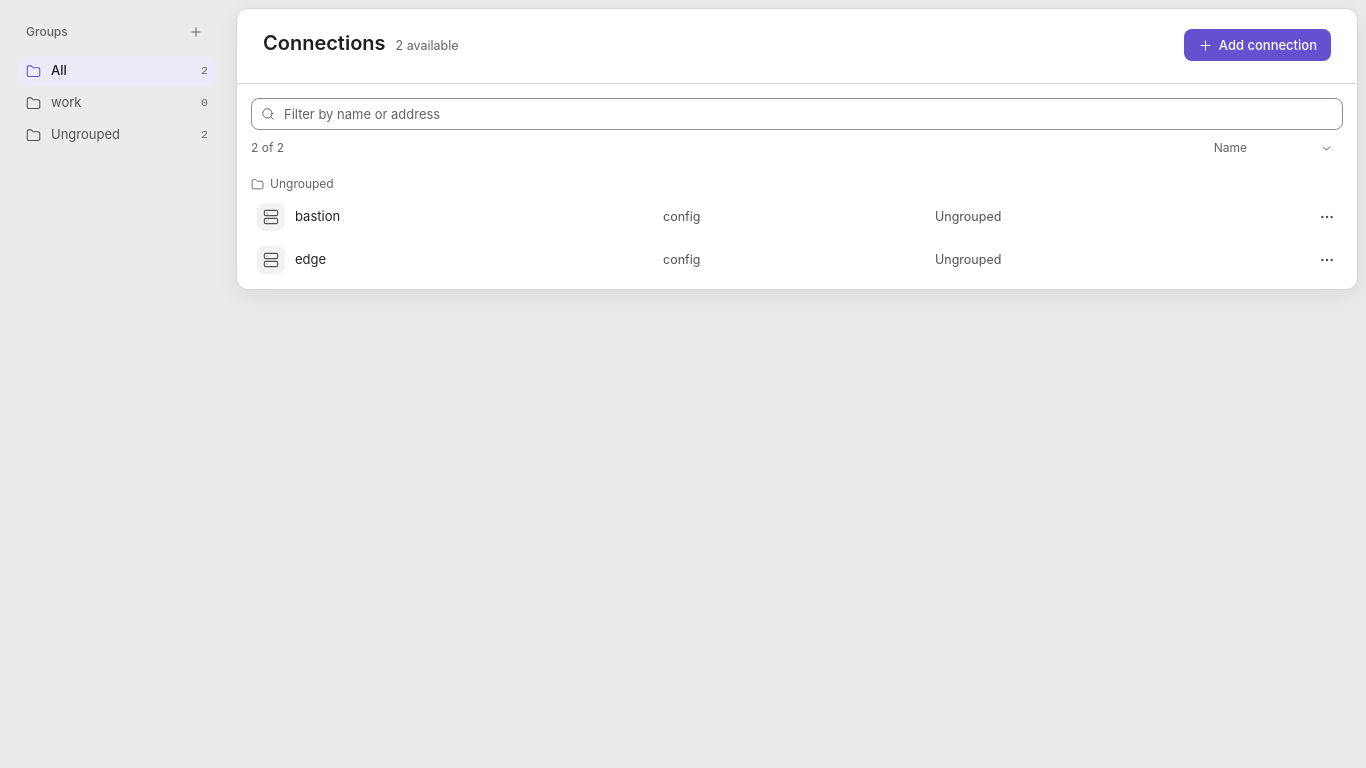
ConnectionsPage › acting on several chosen connections › lets the choice go once the move is saved
This screenshot has width=1366, height=768.
Click the button "bastion config Ungrouped" at (318, 216), box [243,196,1351,238]
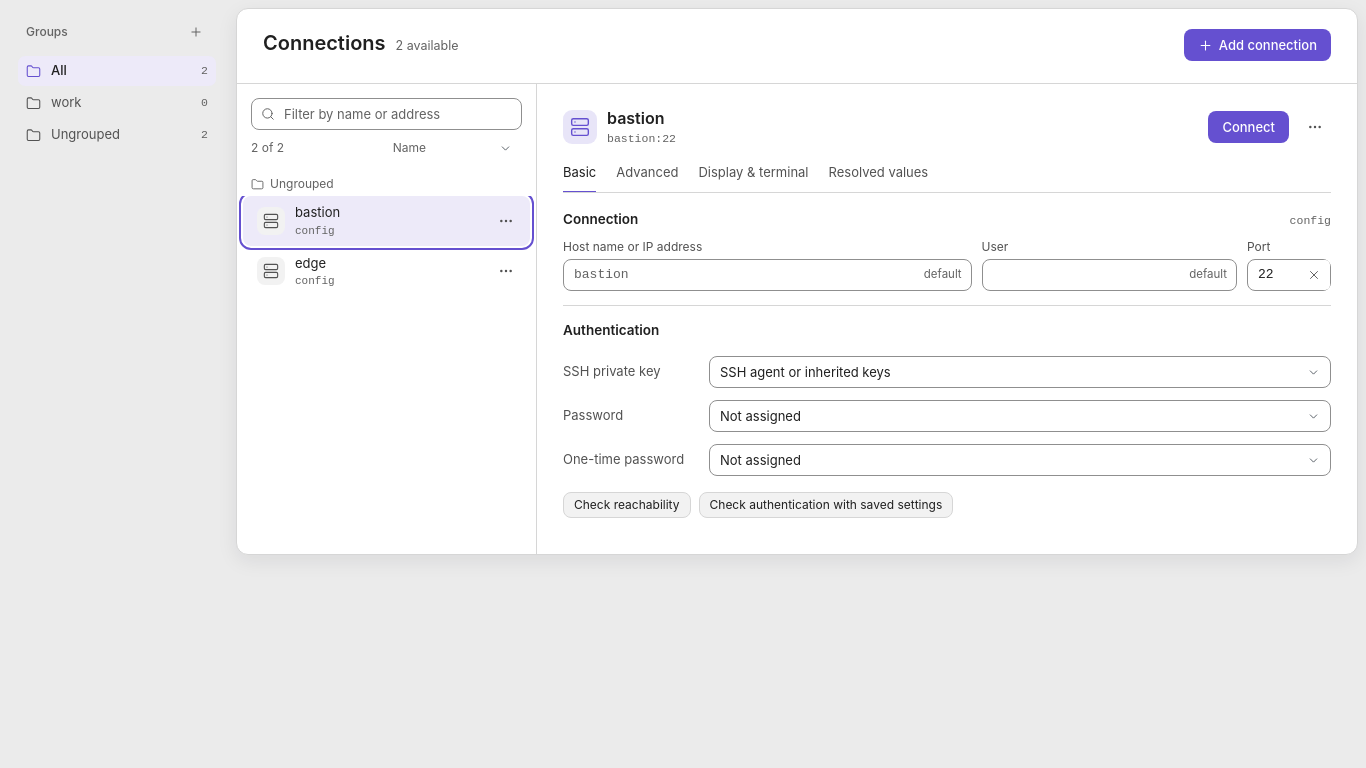
Click the button "edge config" at (311, 262), box [243,246,530,296]
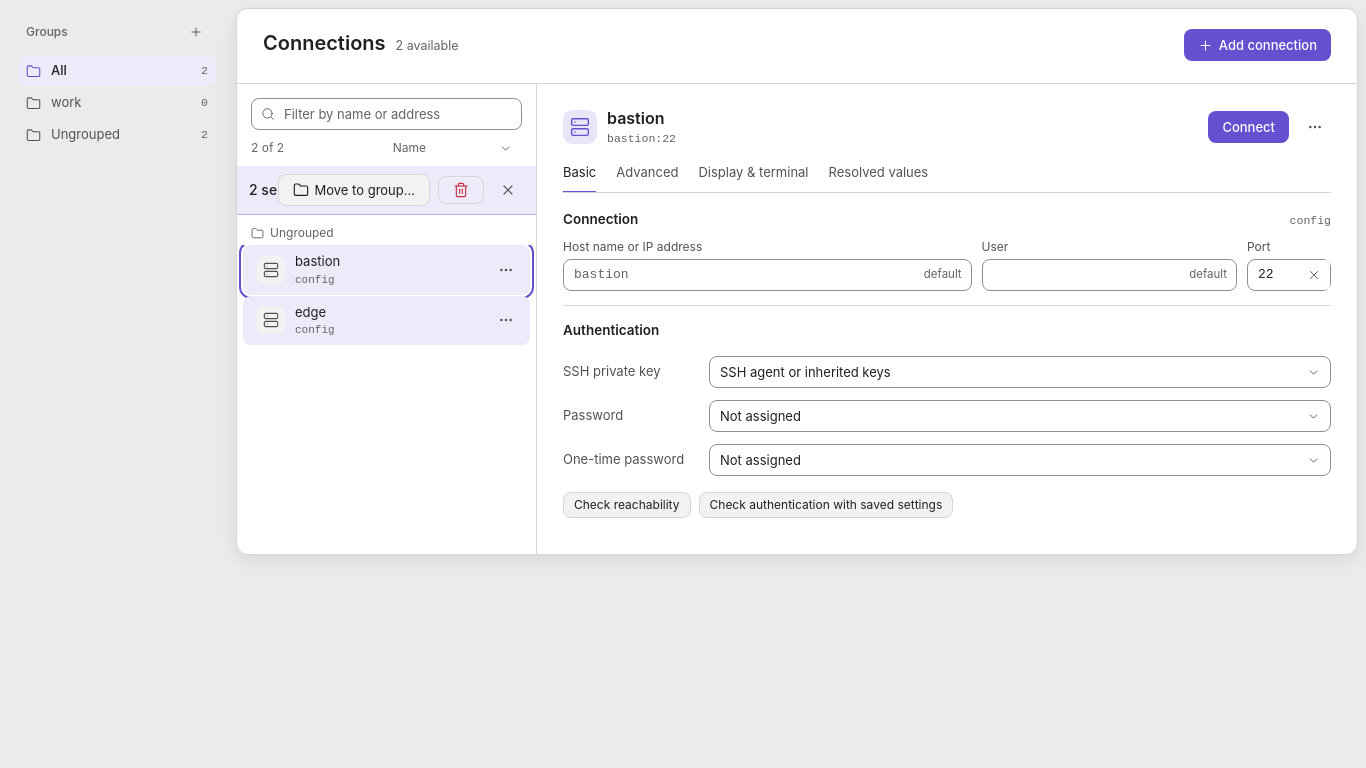
Click the button "Move to group…" at (354, 190), box [278,174,430,206]
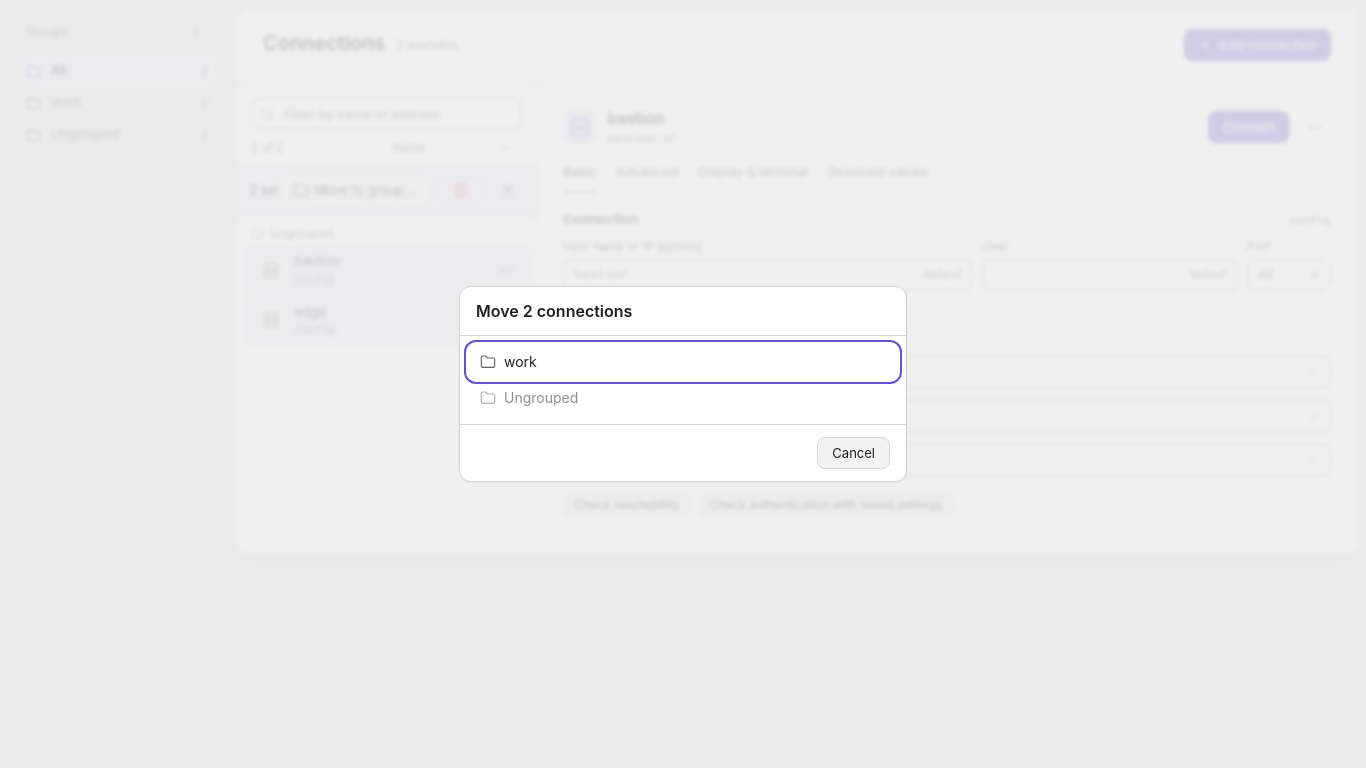
Click the button "work" at (520, 362), box [468,344,898,380]
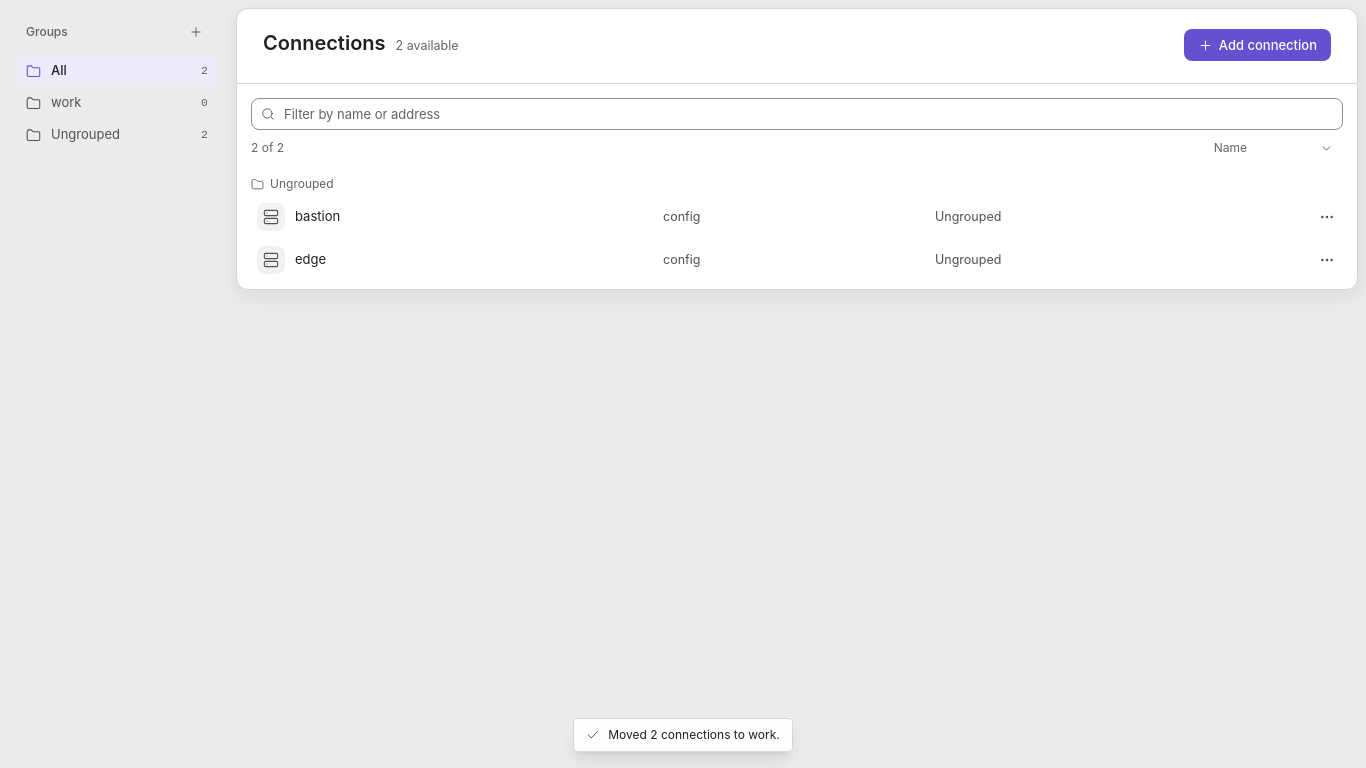
Check: the text "2 selected" is gone
Check: the heading "Move 2 connections" is gone
Check: the text "Moved 2 connections to work." is shown, box [573,718,793,752]
